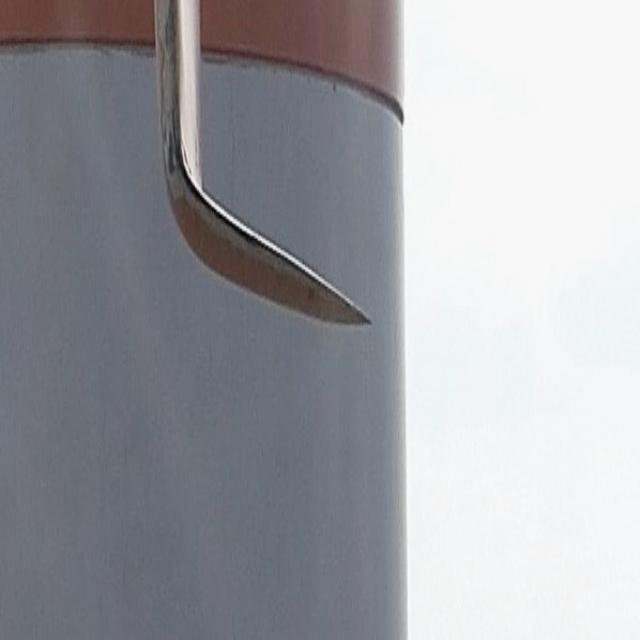EROSION: (170, 140, 362, 312)
